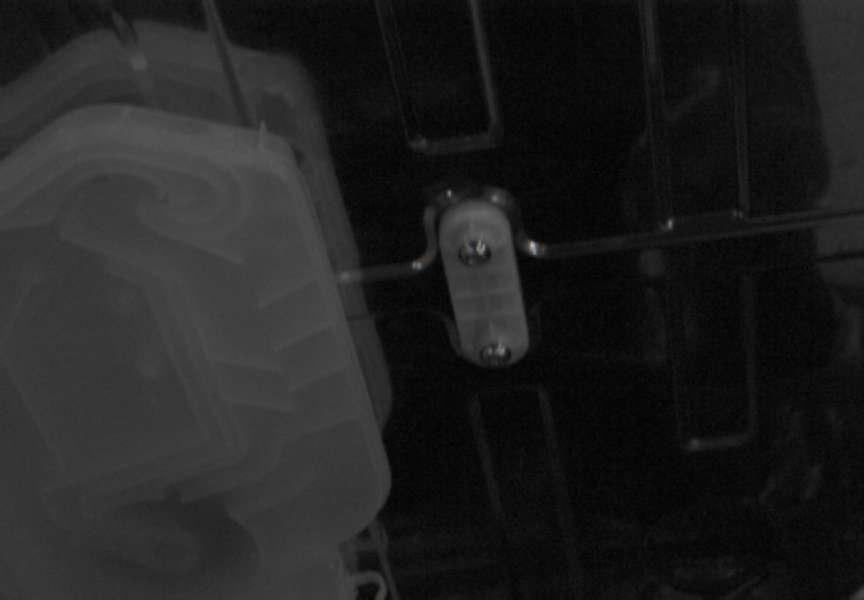screw: (459, 239, 492, 267), (480, 342, 512, 368)
